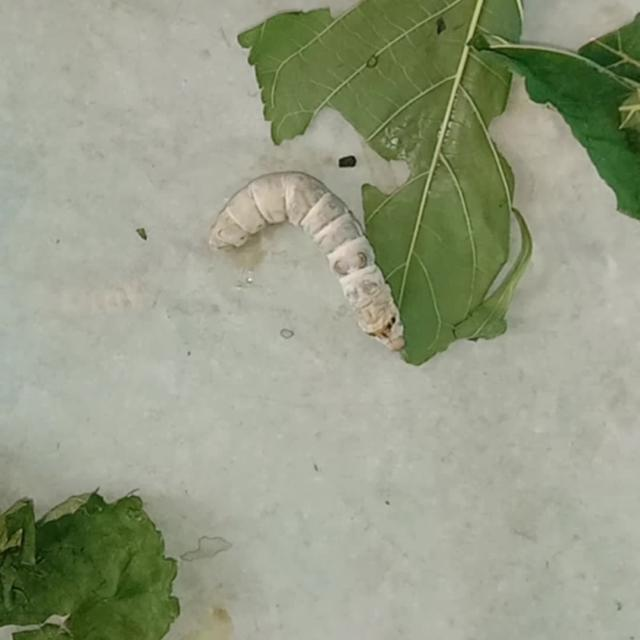Grasserie: (200, 158, 417, 356)
